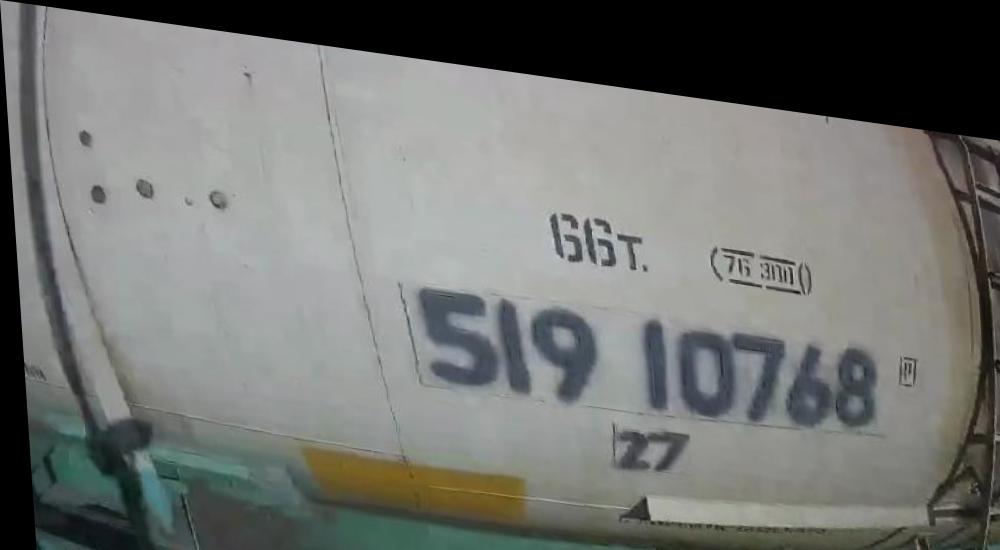Wagon-number: (406, 270, 882, 423)
